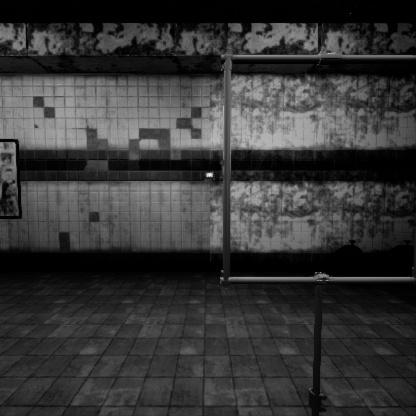gate: (223, 129, 416, 361)
